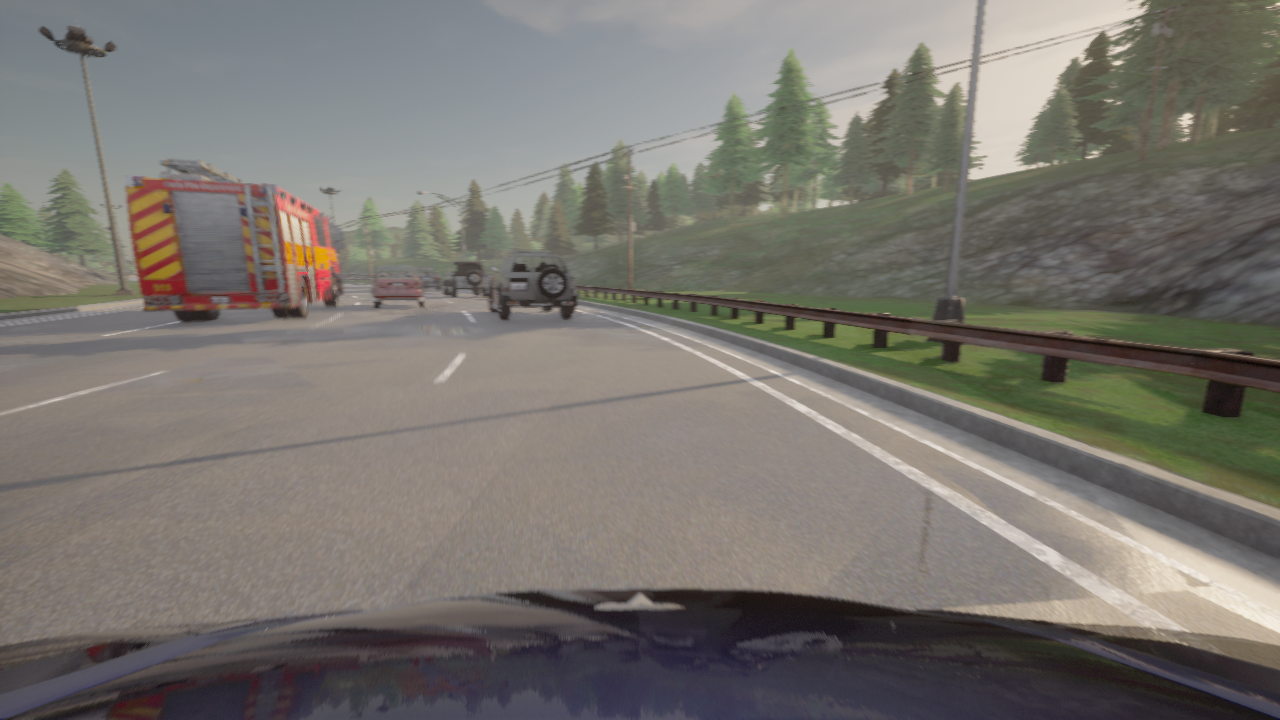cyclist: (0, 588, 1279, 719), (125, 157, 343, 320), (487, 250, 577, 320), (371, 265, 424, 308), (441, 260, 487, 297), (414, 268, 440, 289)
